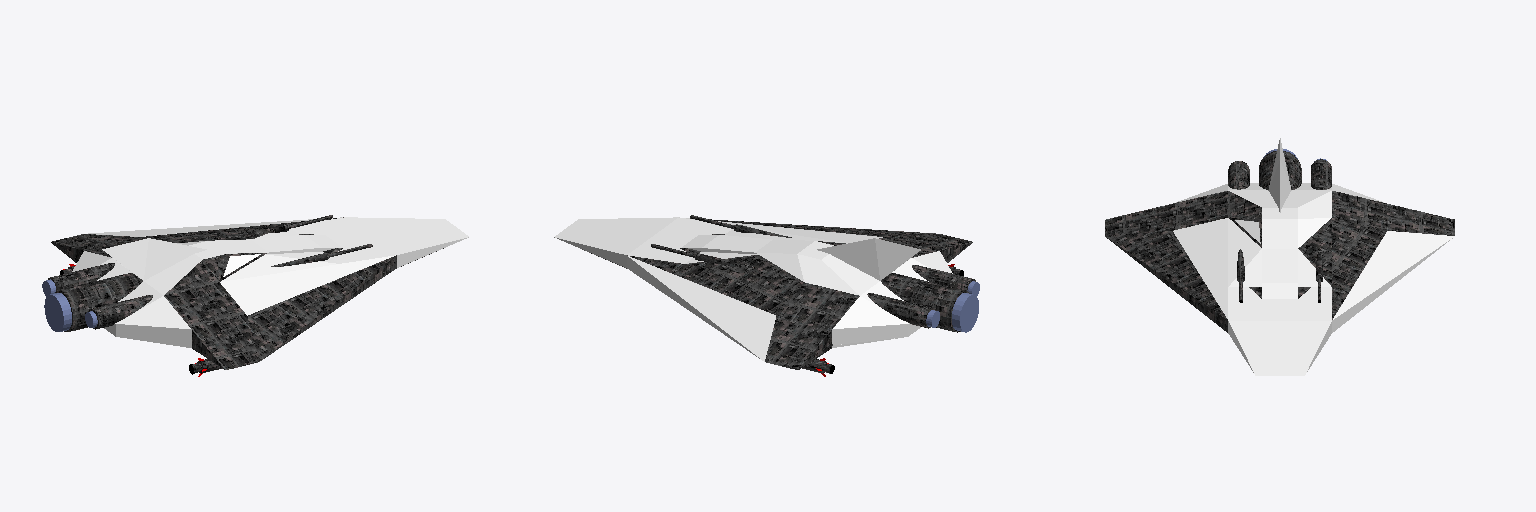
3 views of the same model, side by side, from view 1: azimuth 30°, elevation 25°; view 2: azimuth 150°, elevation 25°; view 3: azimuth 270°, elevation 25° (orthographic).
Parts seen in each view (by area): view 1: Mesh1 Component1 Model, Mesh7 Component1 Model, Mesh8 Component1 Model, Mesh5 Component1 Model; view 2: Mesh1 Component1 Model, Mesh7 Component1 Model, Mesh5 Component1 Model, Mesh8 Component1 Model; view 3: Mesh1 Component1 Model, Mesh7 Component1 Model, Mesh5 Component1 Model.
Part boxes in pixels (left/top/right/bottom): Mesh1 Component1 Model: left=51, top=217, right=468, bottom=376; Mesh7 Component1 Model: left=55, top=273, right=142, bottom=331; Mesh8 Component1 Model: left=44, top=293, right=71, bottom=331; Mesh5 Component1 Model: left=48, top=263, right=114, bottom=290; Mesh1 Component1 Model: left=554, top=217, right=979, bottom=369; Mesh7 Component1 Model: left=881, top=273, right=969, bottom=332; Mesh5 Component1 Model: left=867, top=293, right=934, bottom=328; Mesh8 Component1 Model: left=952, top=293, right=978, bottom=332; Mesh1 Component1 Model: left=1105, top=138, right=1454, bottom=375; Mesh7 Component1 Model: left=1259, top=151, right=1301, bottom=189; Mesh5 Component1 Model: left=1311, top=159, right=1331, bottom=189.
Bounding box in the file's own units: 6396 × 1334 × 4817.
Materials: 8 (2 with a texture image).